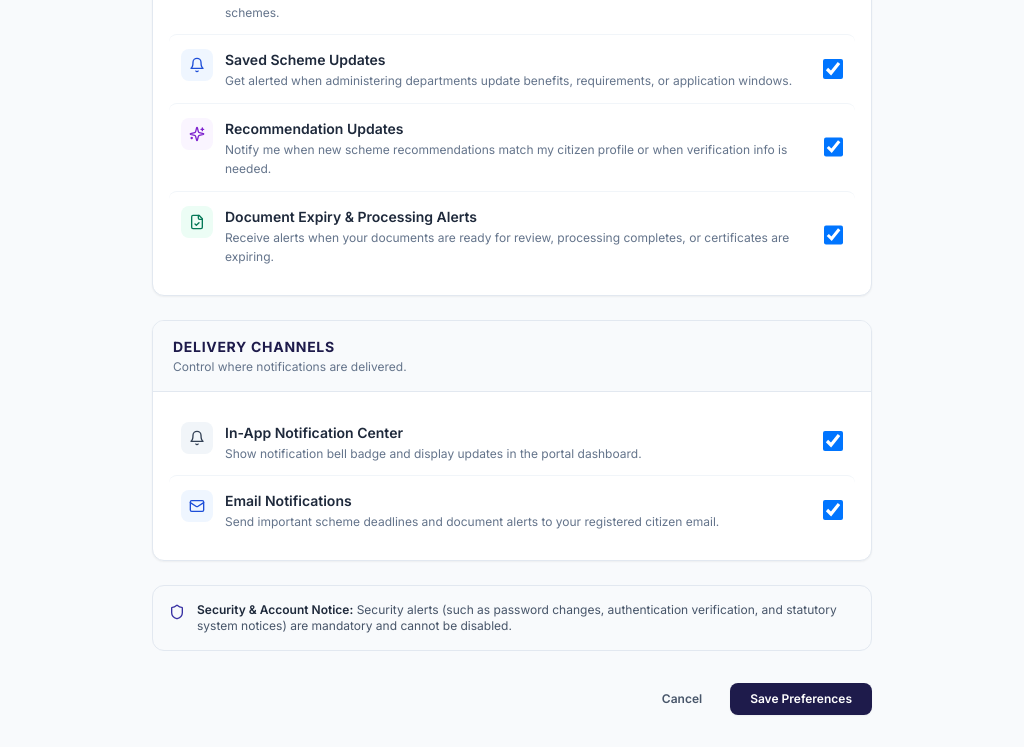
Test: NotificationSettingsPage Component › saves updated preferences and displays success message
(page scrolled)
Expected: the text "Email Notifications" is shown, x1=225 y1=492 x2=352 y2=509
Click the checkbox labelled "Email Notifications" at [833, 510], box x1=823 y1=500 x2=843 y2=520
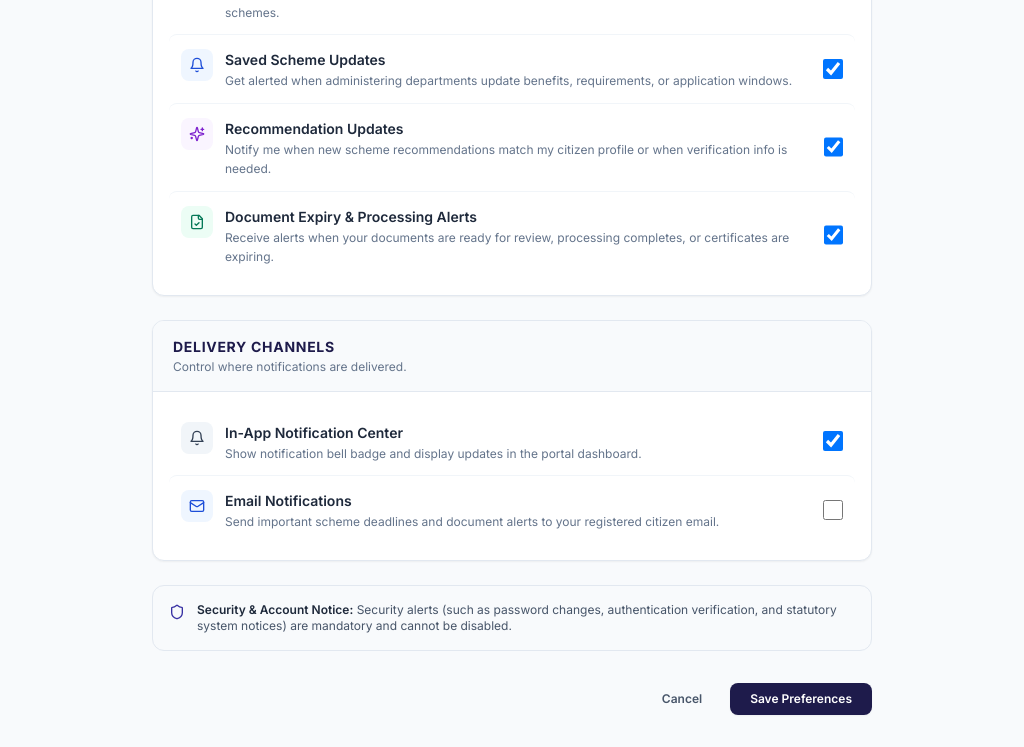
Click the button "Save Preferences" at [801, 698], box x1=730 y1=682 x2=872 y2=714
(page scrolled)
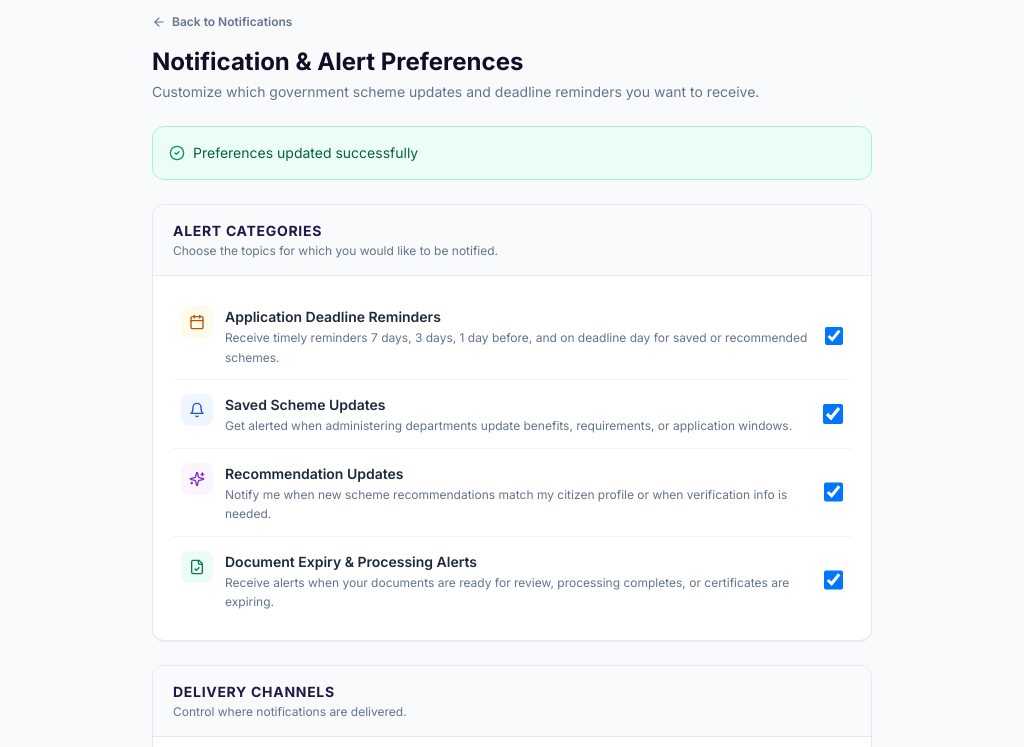
Result: the text "Preferences updated successfully" is shown at x1=193 y1=143 x2=418 y2=163
